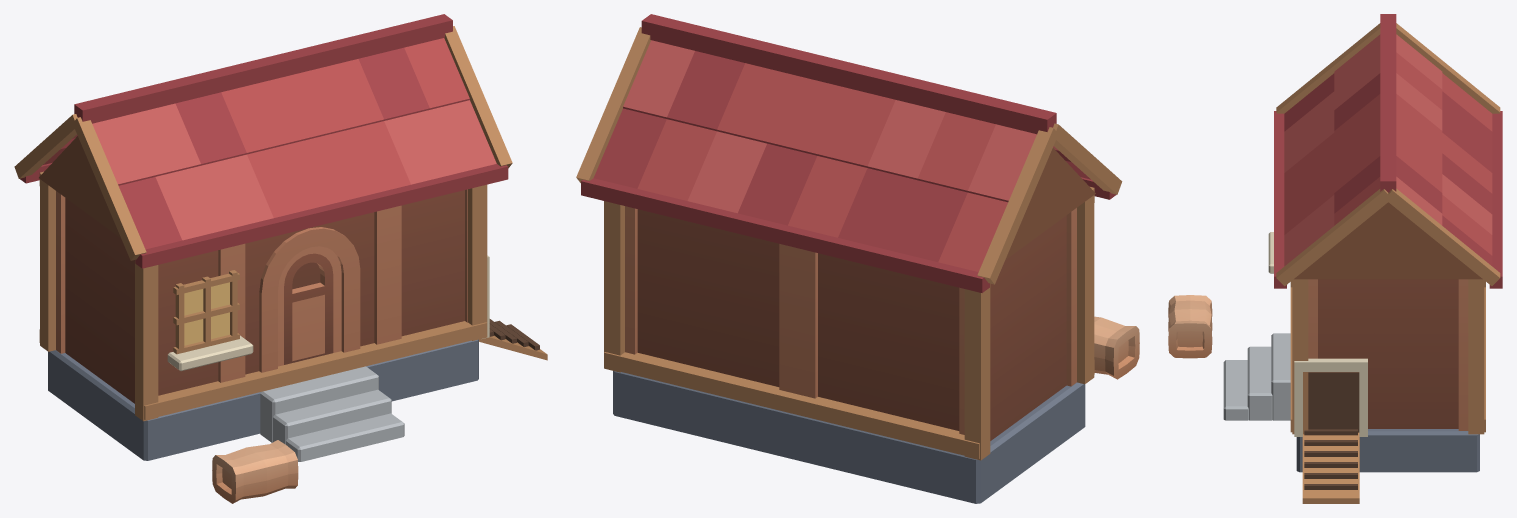
File: coop.glb
3 renders of one model, left to right at view 1: azimuth 30°, elevation 25°; view 2: azimuth 150°, elevation 25°; view 3: azimuth 270°, elevation 25°, orthographic. The views are drawn at different scales.
Parts seen in each view (by area): view 1: coop_建筑共用调色板, coop_fantasy-town-kit 调色板, coop_graveyard-kit 调色板; view 2: coop_建筑共用调色板, coop_fantasy-town-kit 调色板, coop_graveyard-kit 调色板; view 3: coop_建筑共用调色板, coop_fantasy-town-kit 调色板, coop_graveyard-kit 调色板.
Boxes of the visible parts, x1,y1,x2,y2 form: coop_建筑共用调色板: (14,14,547,461); coop_fantasy-town-kit 调色板: (56,189,467,403); coop_graveyard-kit 调色板: (212,440,298,503); coop_建筑共用调色板: (576,14,1122,503); coop_fantasy-town-kit 调色板: (625,206,1076,440); coop_graveyard-kit 调色板: (1094,316,1139,379); coop_建筑共用调色板: (1223,14,1502,503); coop_fantasy-town-kit 调色板: (1308,279,1468,430); coop_graveyard-kit 调色板: (1168,295,1212,358).
Bounding box in the file's own units: 5.18 × 3.74 × 3.8.
3 materials, 3 textured.
